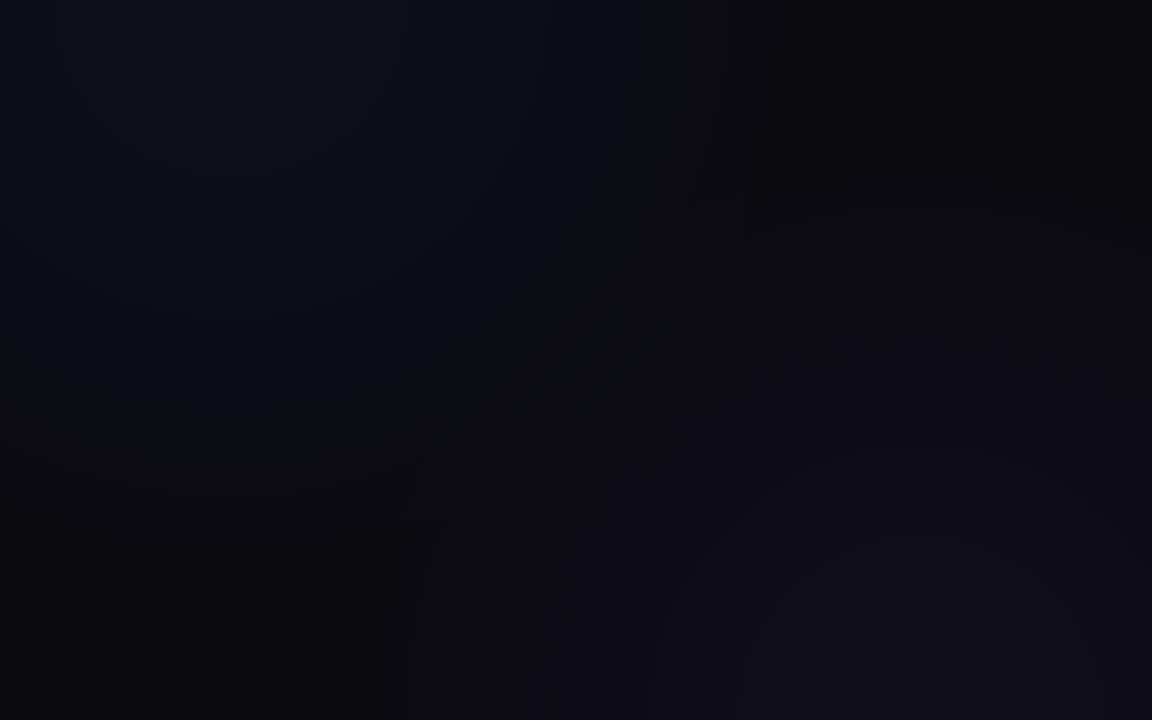
Scenario: CommandPalette › TDBT-01: ComparePicker filters candidates by project_key, not cwd (symlink + byte-equal edge cases)
This screenshot has width=1152, height=720.
Type keys "{Meta>}k{/Meta}"
(page scrolled)
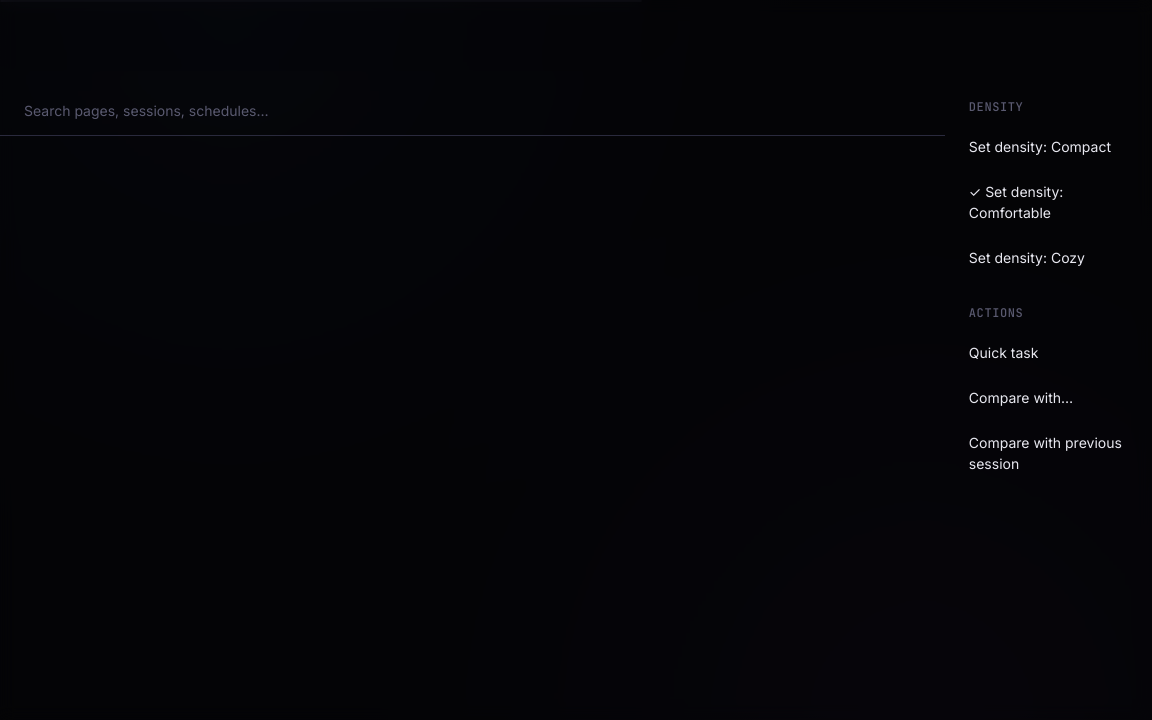
Click the option "Compare with…": (1021, 398) [969, 389, 1073, 406]
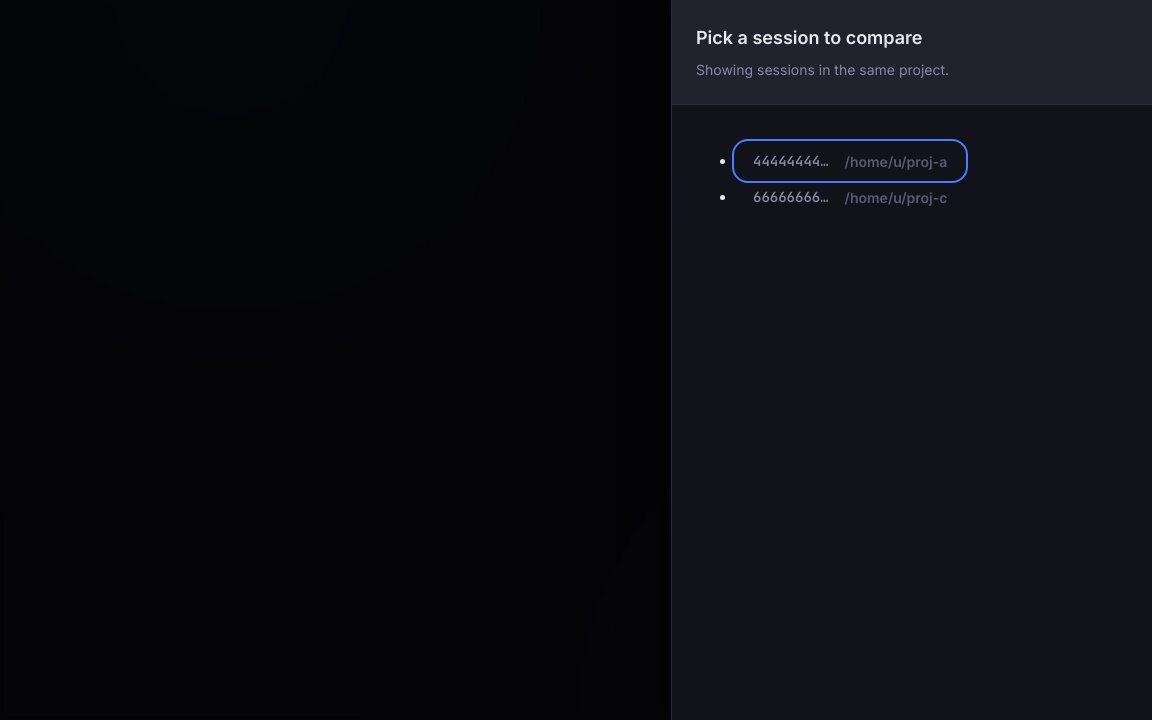
Now the heading "Pick a session to compare" is shown, box [696, 27, 922, 48]
